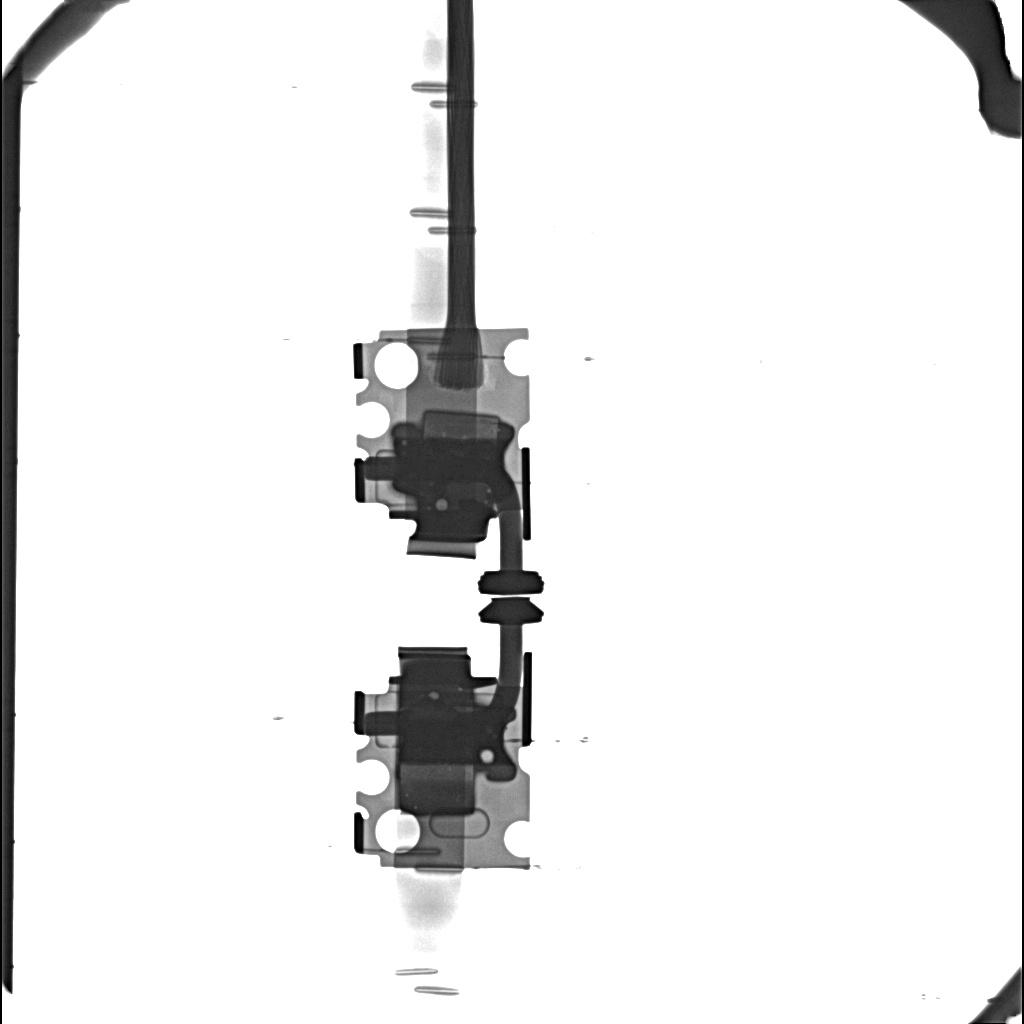defect: (398, 720, 509, 765), (394, 440, 504, 481), (397, 764, 476, 816), (420, 409, 501, 438), (436, 498, 448, 512), (428, 690, 439, 700)
